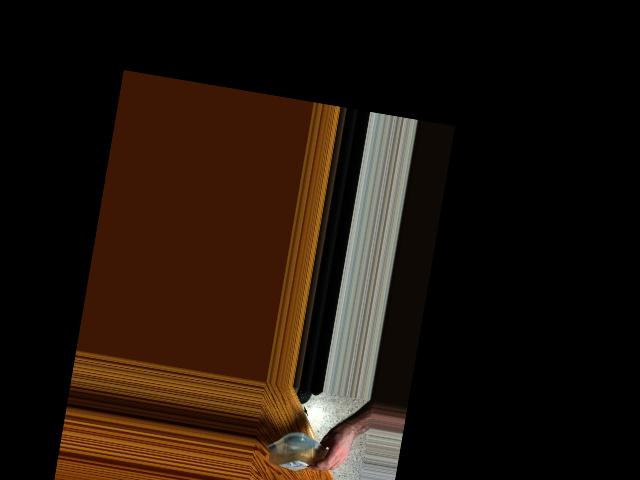cheese: (264, 430, 341, 479)
